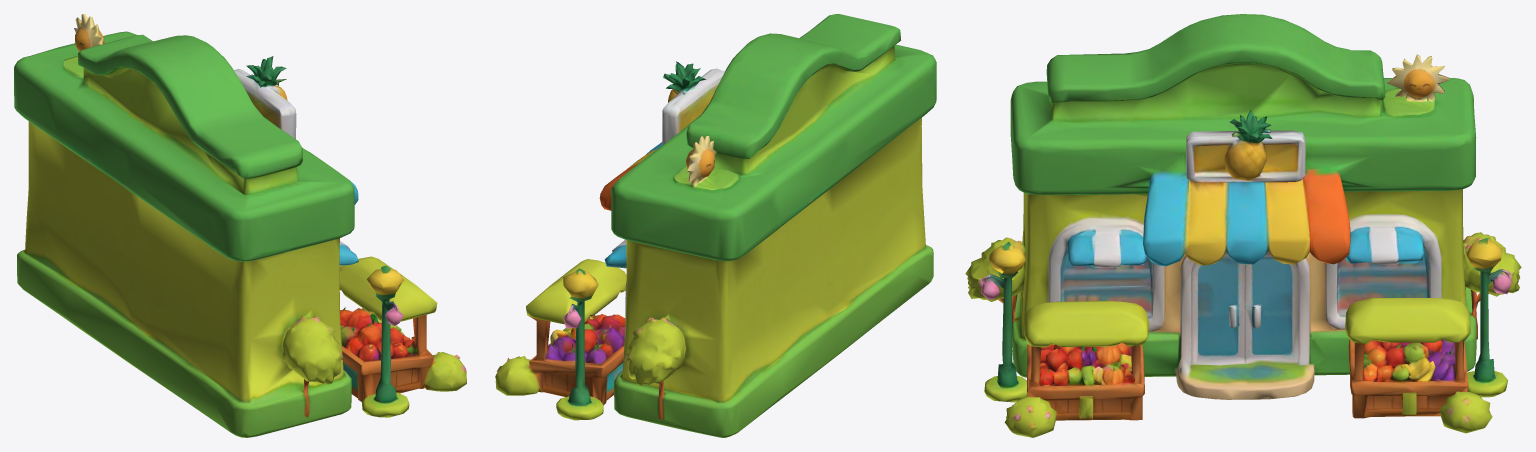
File: supermarket.glb
The picture shows the model from 3 angles, left to right: view 1: azimuth 30°, elevation 25°; view 2: azimuth 150°, elevation 25°; view 3: azimuth 270°, elevation 25°; orthographic projection. The views are drawn at different scales.
Visible parts, largest first — view 1: tripo_node_0290983f-b3c4-408d-9d64-204313e7a127; view 2: tripo_node_0290983f-b3c4-408d-9d64-204313e7a127; view 3: tripo_node_0290983f-b3c4-408d-9d64-204313e7a127.
Boxes of the visible parts, x1=… form: tripo_node_0290983f-b3c4-408d-9d64-204313e7a127: x1=14, y1=14, x2=466, y2=437; tripo_node_0290983f-b3c4-408d-9d64-204313e7a127: x1=495, y1=14, x2=936, y2=437; tripo_node_0290983f-b3c4-408d-9d64-204313e7a127: x1=965, y1=14, x2=1521, y2=437.
Bounding box in the file's own units: 0.5185 × 0.5996 × 0.957.
1 material, 1 textured.
